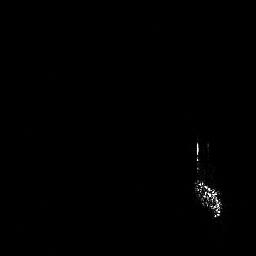ship: (194, 140, 223, 220)
